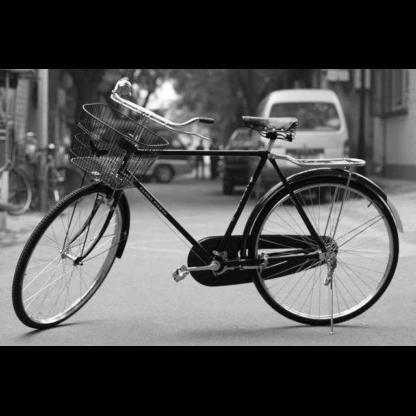Bicycle: (3, 61, 416, 339)
